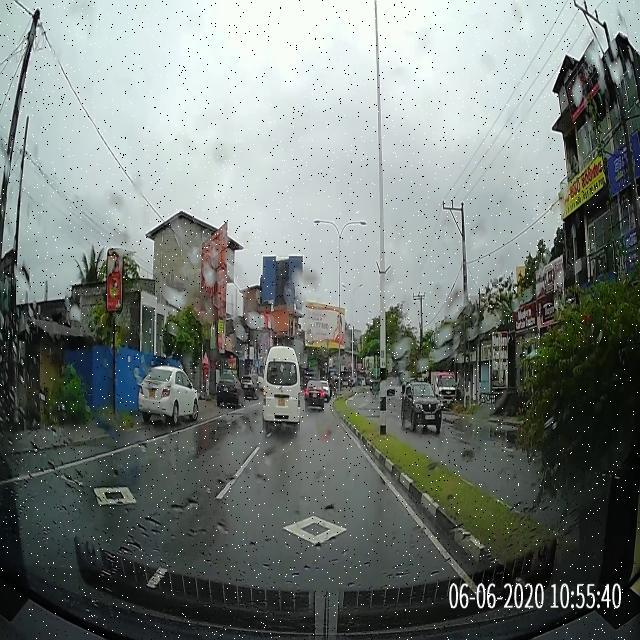diamond: (154, 485, 462, 565)
